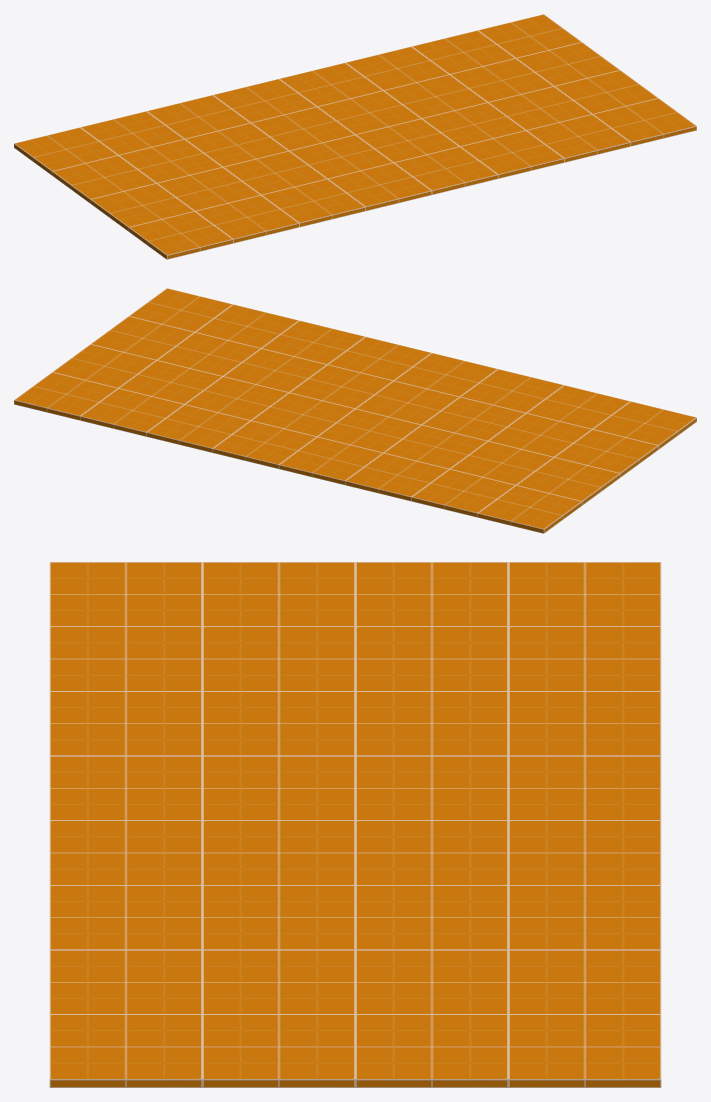
File: Plate16_8x4.obj
3 renders of one model, top to bottom at view 1: azimuth 30°, elevation 25°; view 2: azimuth 150°, elevation 25°; view 3: azimuth 270°, elevation 25°, orthographic. The views are drawn at different scales.
Parts seen in each view (by area): view 1: Plate16_8x4_Cube.449; view 2: Plate16_8x4_Cube.449; view 3: Plate16_8x4_Cube.449.
Boxes of the visible parts, x1,y1,x2,y2 form: Plate16_8x4_Cube.449: [14, 14, 696, 259]; Plate16_8x4_Cube.449: [14, 288, 696, 533]; Plate16_8x4_Cube.449: [49, 562, 661, 1087].
Bounding box in the file's own units: 8 × 0.0625 × 4.
Materials: 1 (1 with a texture image).
